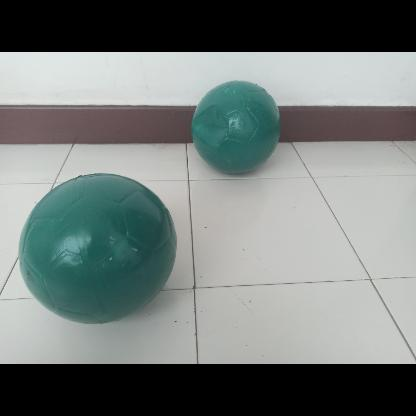green_ball: (20, 170, 178, 328), (192, 81, 284, 174)
